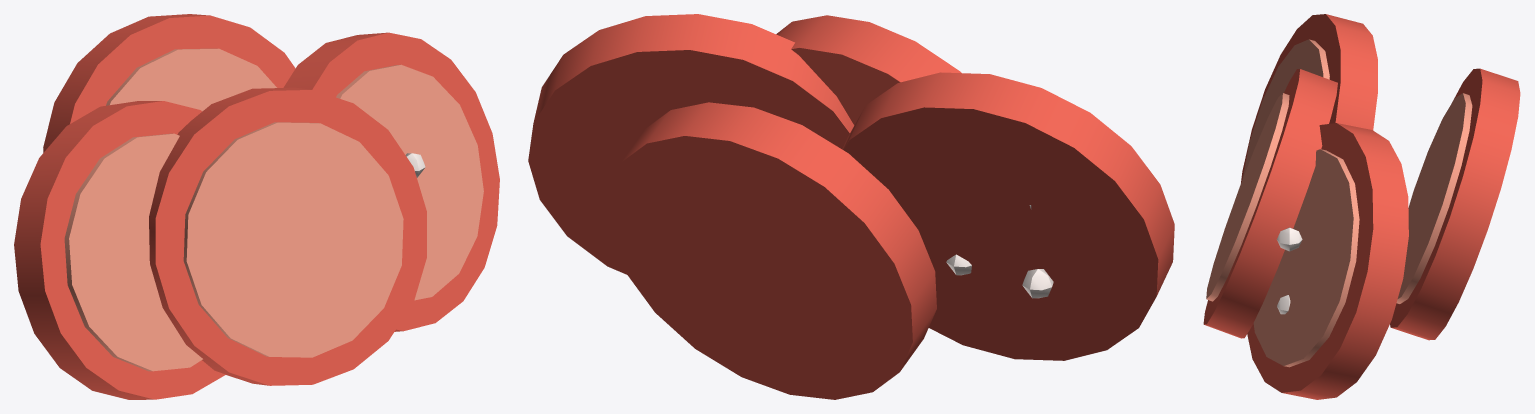
The model's file is kr_tomato_ch.glb.
The picture shows the model from 3 angles, left to right: view 1: azimuth 30°, elevation 25°; view 2: azimuth 150°, elevation 25°; view 3: azimuth 270°, elevation 25°; orthographic projection. The views are drawn at different scales.
Parts seen in each view (by area): view 1: vc_m0_r4, vc_m0_r2; view 2: vc_m0_r2, vc_m0_r4; view 3: vc_m0_r2, vc_m0_r4.
Boxes of the visible parts, left/top/right/bottom form: vc_m0_r4: left=64, top=48, right=483, bottom=371; vc_m0_r2: left=14, top=14, right=499, bottom=399; vc_m0_r2: left=528, top=14, right=1174, bottom=399; vc_m0_r4: left=946, top=205, right=1053, bottom=298; vc_m0_r2: left=1203, top=14, right=1520, bottom=399; vc_m0_r4: left=1206, top=39, right=1472, bottom=367.
Bounding box in the file's own units: 0.2914 × 0.1485 × 0.1726.
